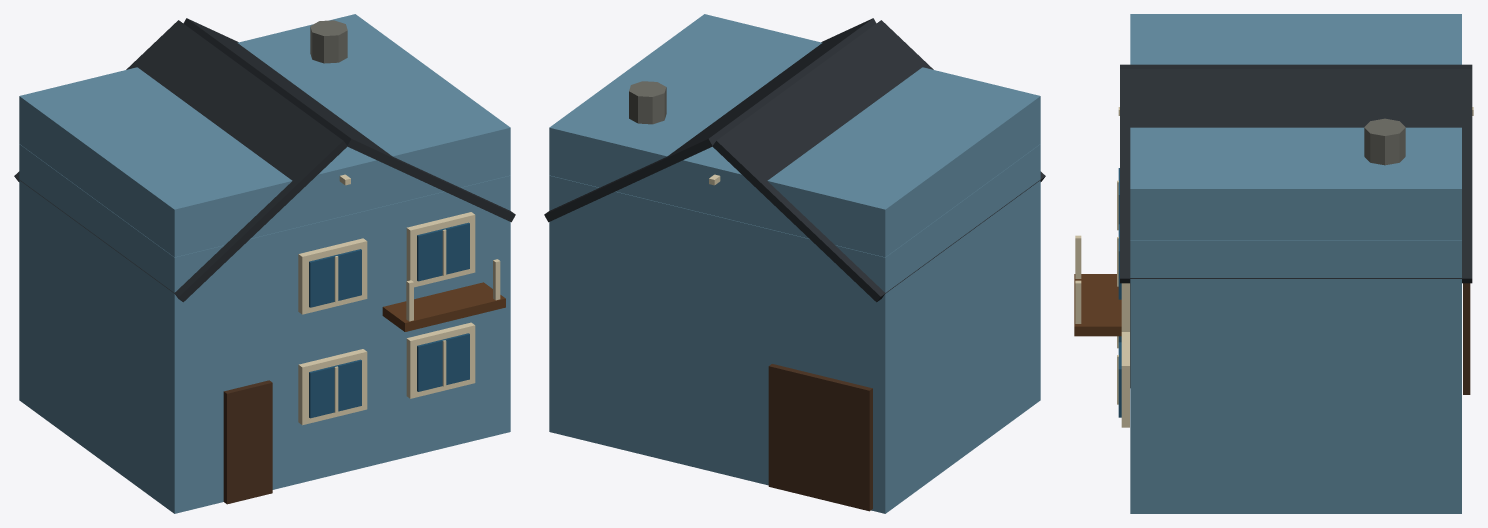
File: House_Suburban_B.obj
3 renders of one model, left to right at view 1: azimuth 30°, elevation 25°; view 2: azimuth 150°, elevation 25°; view 3: azimuth 270°, elevation 25°, orthographic. The views are drawn at different scales.
Visible parts, largest first — view 1: Main_Walls, Main_Gable, Main_RoofLeft, WindowGlass, WindowTrim, LowerDoor, Main_RoofRight, Balcony, Chimney, WindowMullion, BalconyPost; view 2: Main_Walls, Main_Gable, Main_RoofLeft, Garage, Main_RoofRight, Chimney; view 3: Main_Walls, Main_Gable, Main_RoofRight, Balcony, Main_RoofLeft, Chimney, WindowTrim, Garage, WindowGlass, BalconyPost.
Boxes of the visible parts, x1,y1,x2,y2 form: Main_Walls: [19, 144, 510, 513]; Main_Gable: [19, 14, 510, 257]; Main_RoofLeft: [14, 20, 347, 302]; WindowGlass: [309, 222, 469, 418]; WindowTrim: [298, 212, 475, 425]; LowerDoor: [223, 380, 272, 504]; Main_RoofRight: [183, 18, 515, 222]; Balcony: [382, 282, 505, 331]; Chimney: [310, 20, 347, 63]; WindowMullion: [334, 229, 446, 412]; BalconyPost: [406, 259, 500, 321]; Main_Walls: [549, 144, 1040, 513]; Main_Gable: [549, 14, 1040, 257]; Main_RoofLeft: [712, 20, 1045, 302]; Garage: [768, 364, 872, 511]; Main_RoofRight: [544, 18, 876, 222]; Chimney: [629, 81, 666, 124]; Main_Walls: [1130, 240, 1461, 513]; Main_Gable: [1130, 14, 1461, 239]; Main_RoofRight: [1120, 69, 1472, 283]; Balcony: [1074, 274, 1121, 336]; Main_RoofLeft: [1120, 64, 1472, 68]; Chimney: [1364, 118, 1405, 165]; WindowTrim: [1121, 283, 1129, 427]; Garage: [1463, 283, 1470, 394]; WindowGlass: [1118, 168, 1121, 417]; BalconyPost: [1075, 235, 1081, 323].
Size of the model in its own units: 7.01 by 6.7 by 6.75.
